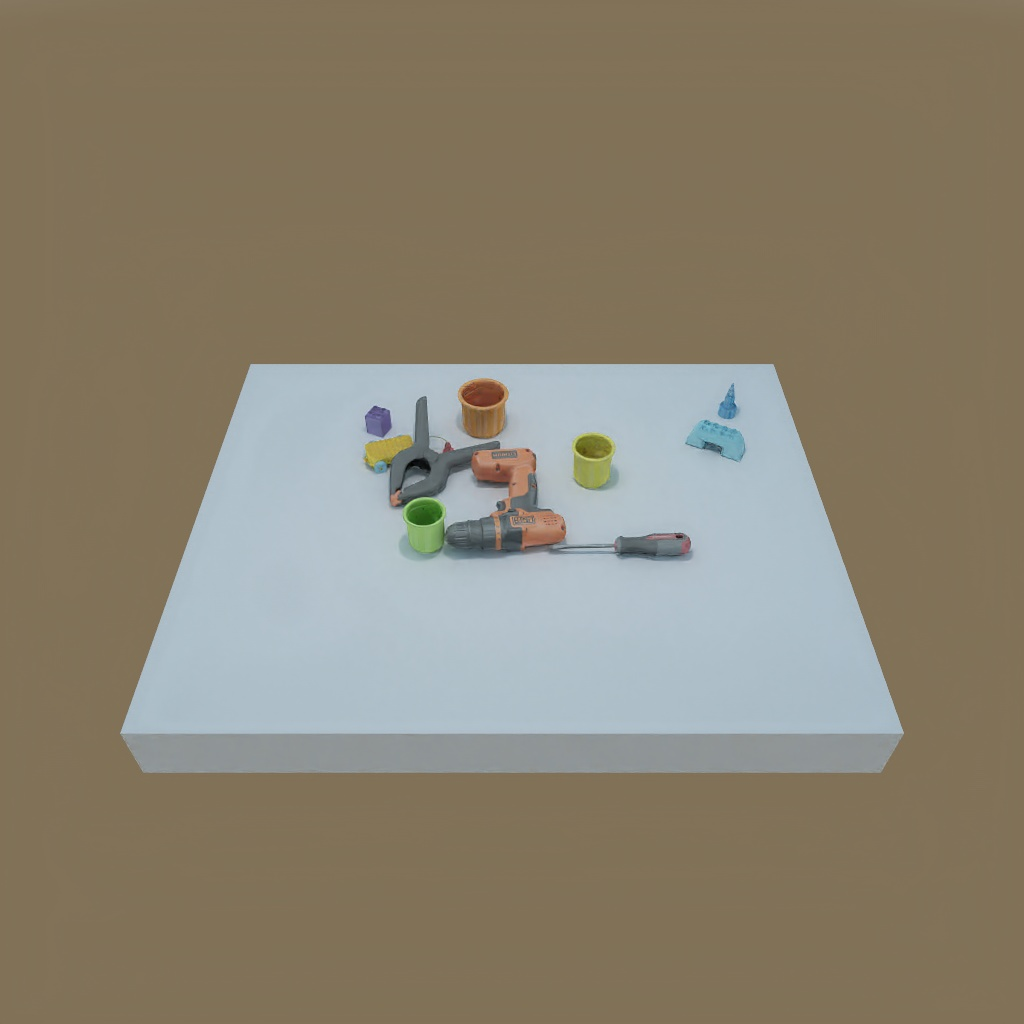power_drill: (445, 447, 568, 552)
